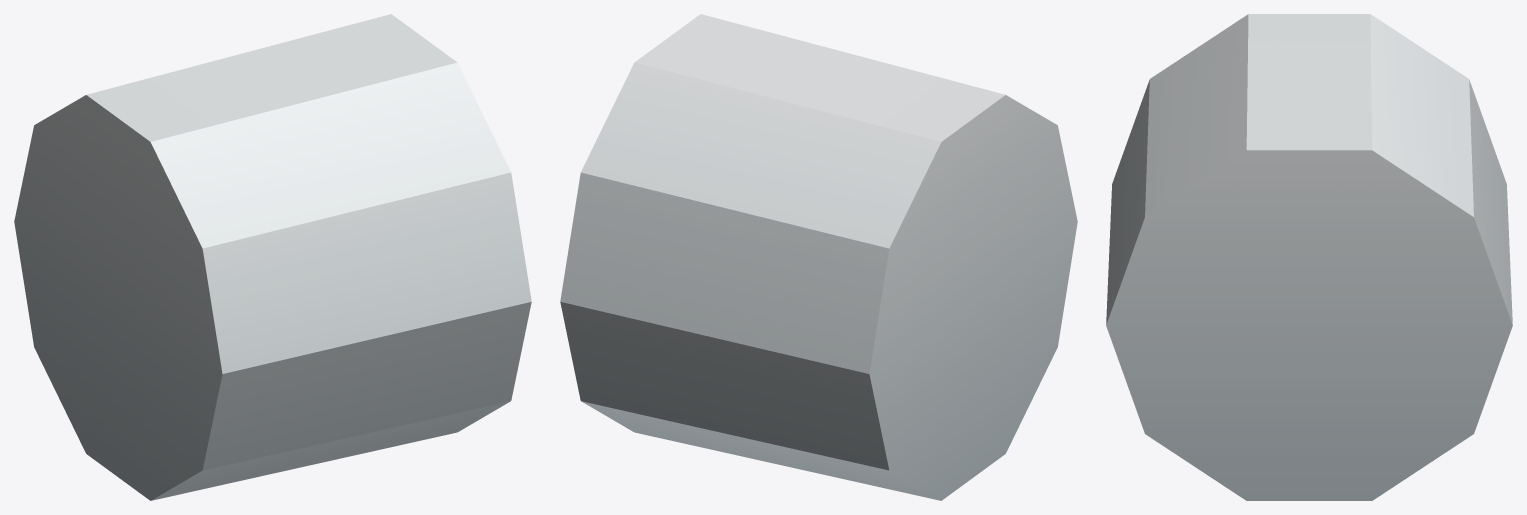
The model's file is cloth_sleeves_lower.glb.
3 views of the same model, side by side, from view 1: azimuth 30°, elevation 25°; view 2: azimuth 150°, elevation 25°; view 3: azimuth 270°, elevation 25° (orthographic). The views are drawn at different scales.
Visible parts, largest first — view 1: cloth_sleeves_lower; view 2: cloth_sleeves_lower; view 3: cloth_sleeves_lower.
Boxes of the visible parts, left/top/right/bottom form: cloth_sleeves_lower: left=14, top=14, right=531, bottom=500; cloth_sleeves_lower: left=560, top=14, right=1077, bottom=500; cloth_sleeves_lower: left=1106, top=14, right=1512, bottom=500.
Bounding box in the file's own units: 0.28 × 0.3234 × 0.34.
1 material, 1 textured.
